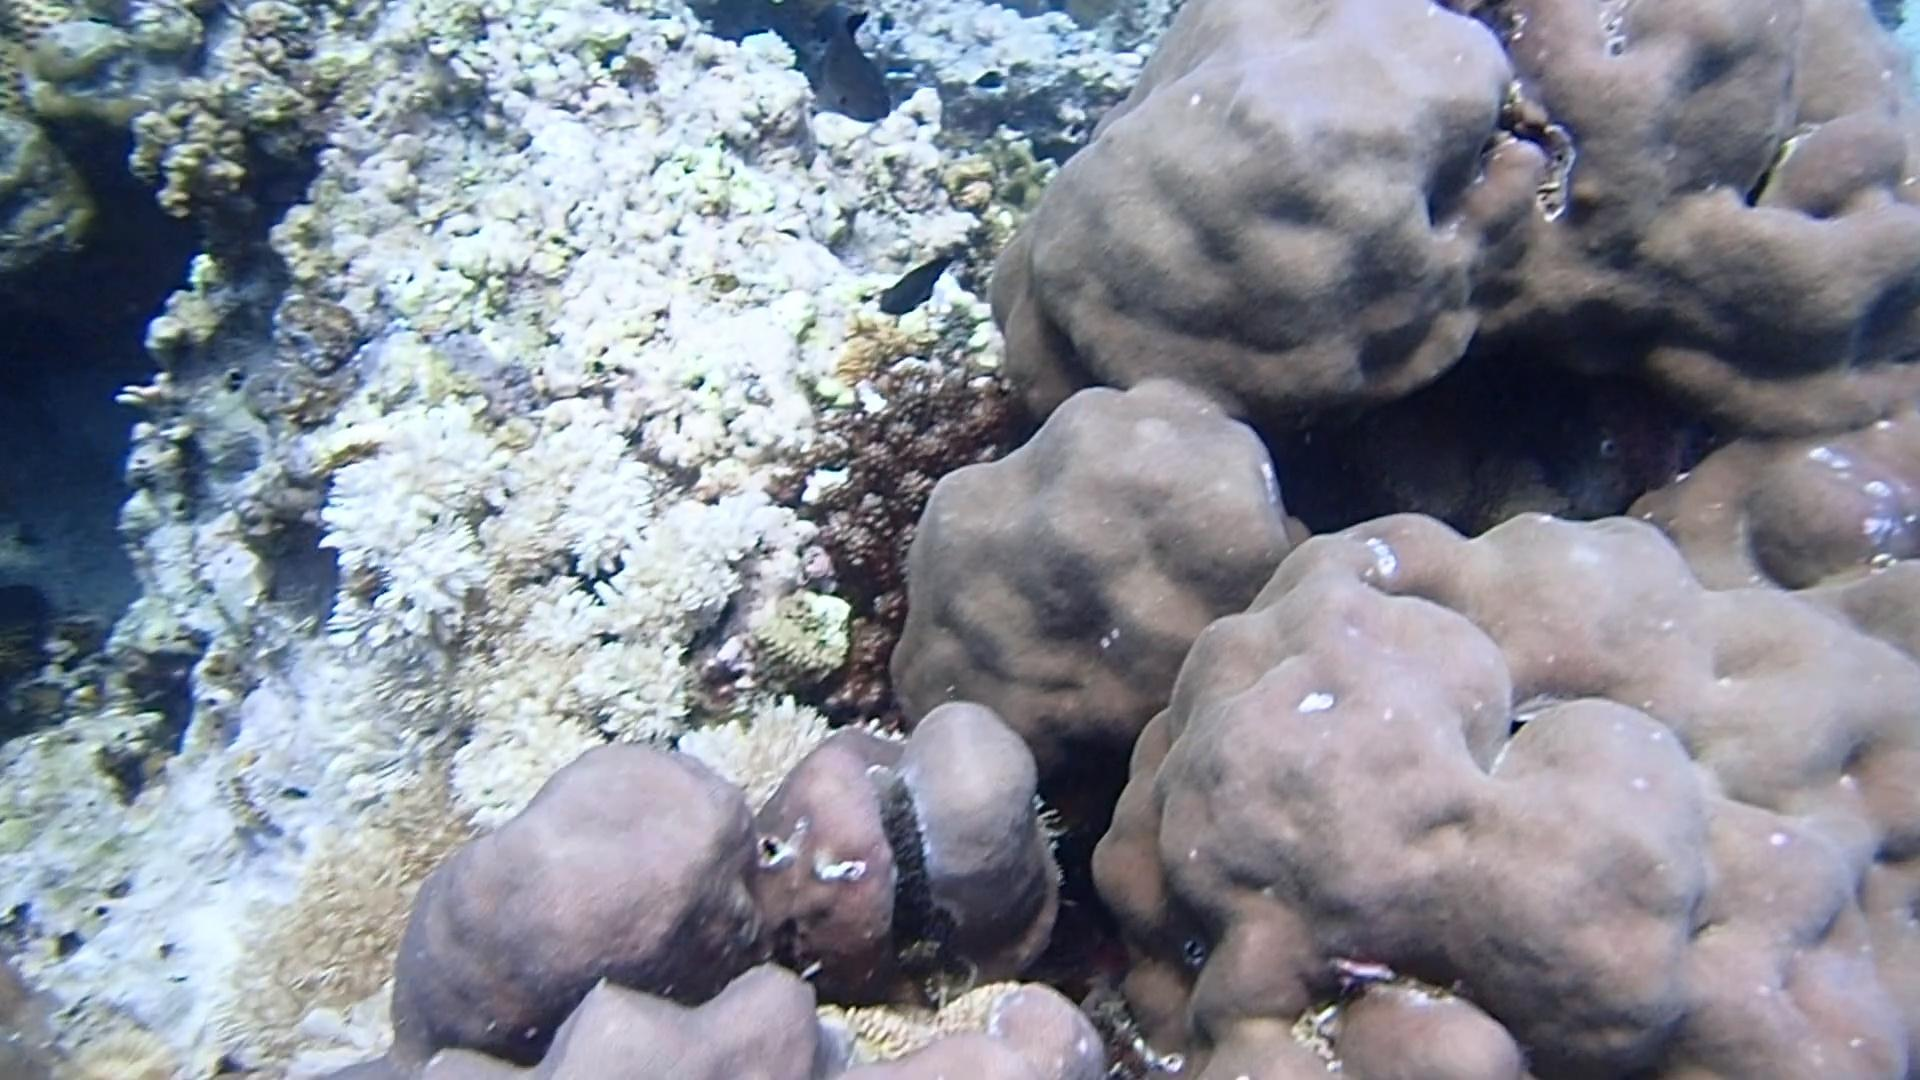Dark Fish: (795, 7, 903, 131), (876, 248, 956, 322), (810, 0, 852, 45), (967, 66, 1014, 98)
